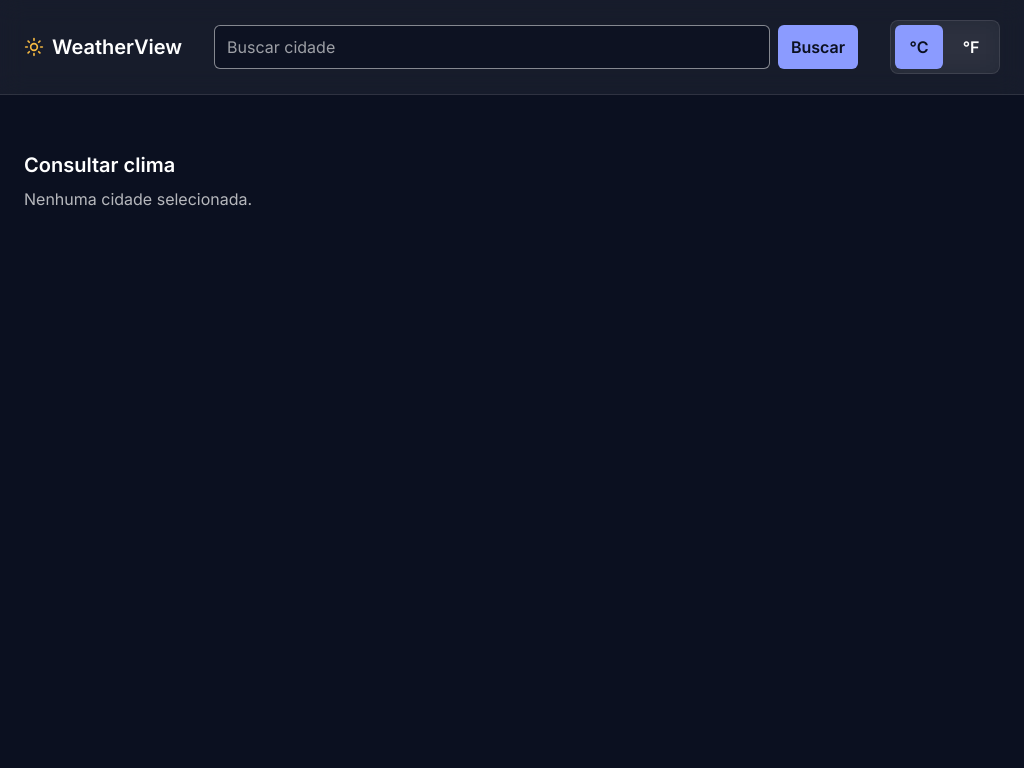
Test: App › converte clima atual e cinco dias sem alterar os dados nem consultar novamente
Type "Curitiba" into the search field.
click(492, 47); type("Curitiba")  # box 214,25 -> 770,69
Then press Enter
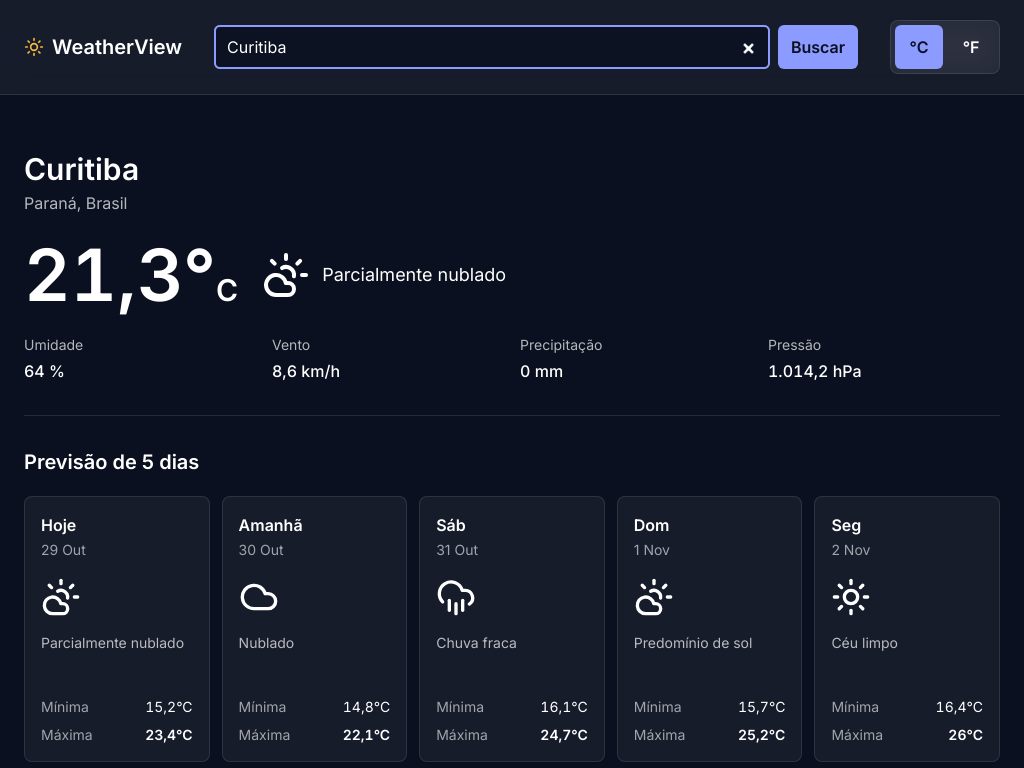
expect the element named "Temperatura atual" reads "21,3°C": met, box 24,239 -> 238,311
expect the number of list items is 5: met, box 24,496 -> 210,762; 222,496 -> 407,762; 419,496 -> 605,762; 617,496 -> 802,762; 814,496 -> 1000,762
expect the text "15,2°C" is shown: met, box 145,697 -> 193,717
Click the button named "Fahrenheit".
click(971, 47)  # box 947,25 -> 995,69
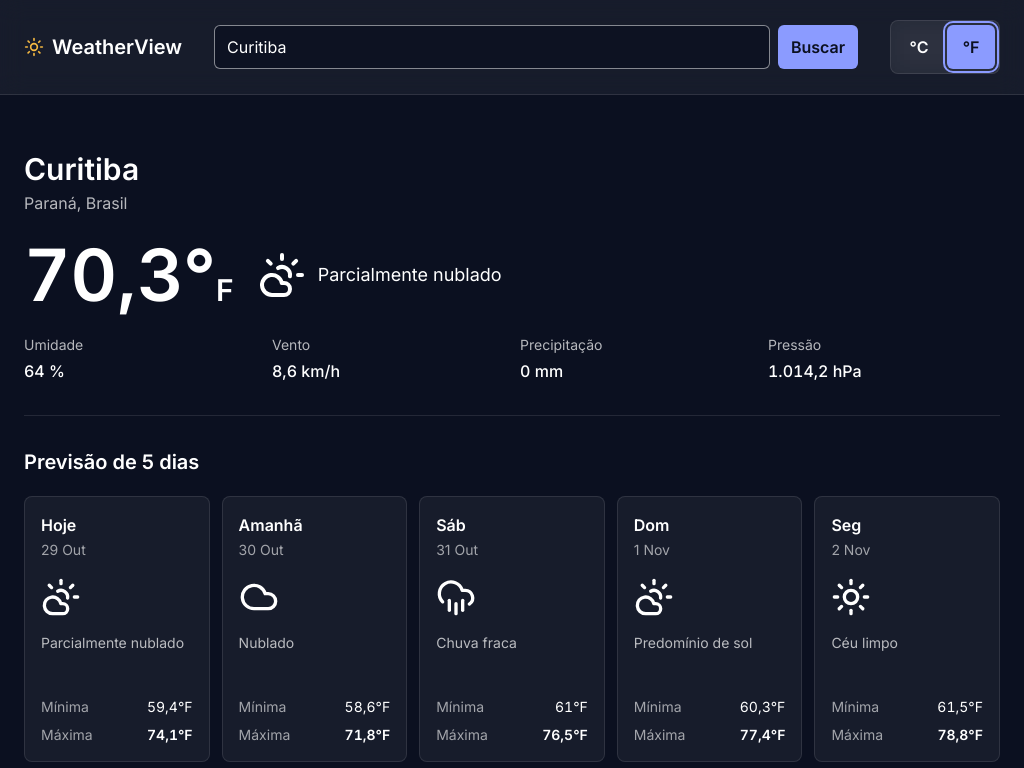
expect the element named "Temperatura atual" reads "70,3°F": met, box 24,239 -> 234,311
expect the text "59,4°F" is shown: met, box 147,697 -> 193,717
expect the text "74,1°F" is shown: met, box 147,725 -> 193,745
Click the button named "Celsius".
click(919, 47)  # box 895,25 -> 943,69
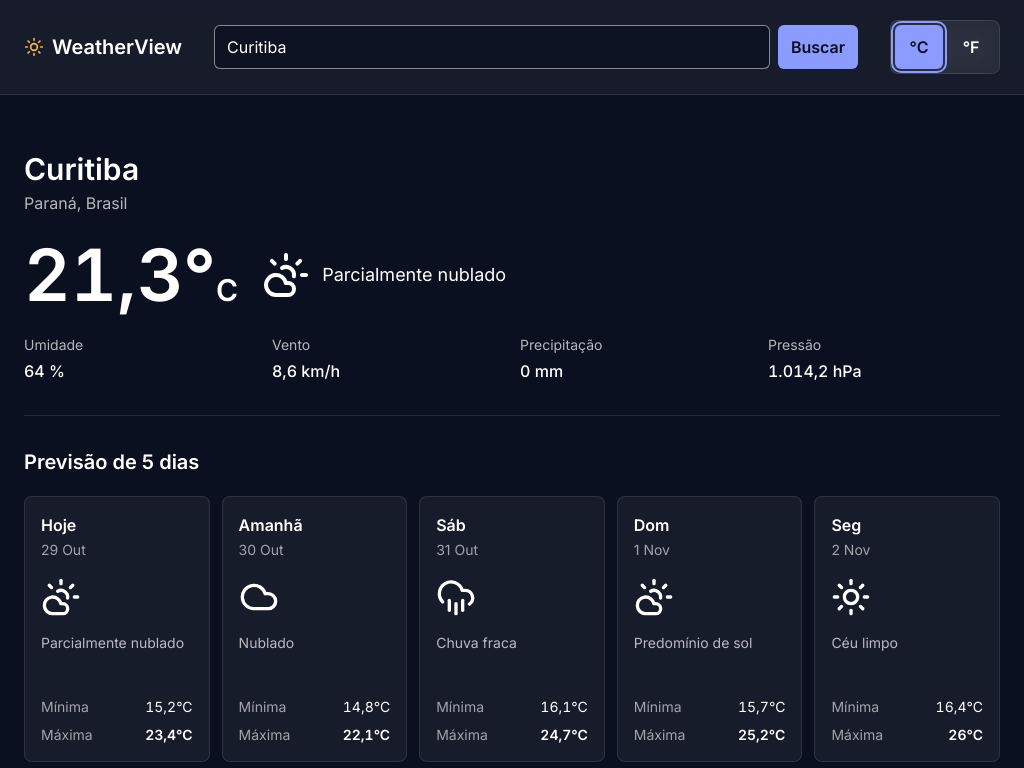
expect the element "Curitiba" is shown: met, box 24,119 -> 1000,416
expect the element named "Temperatura atual" reads "21,3°C": met, box 24,239 -> 238,311
